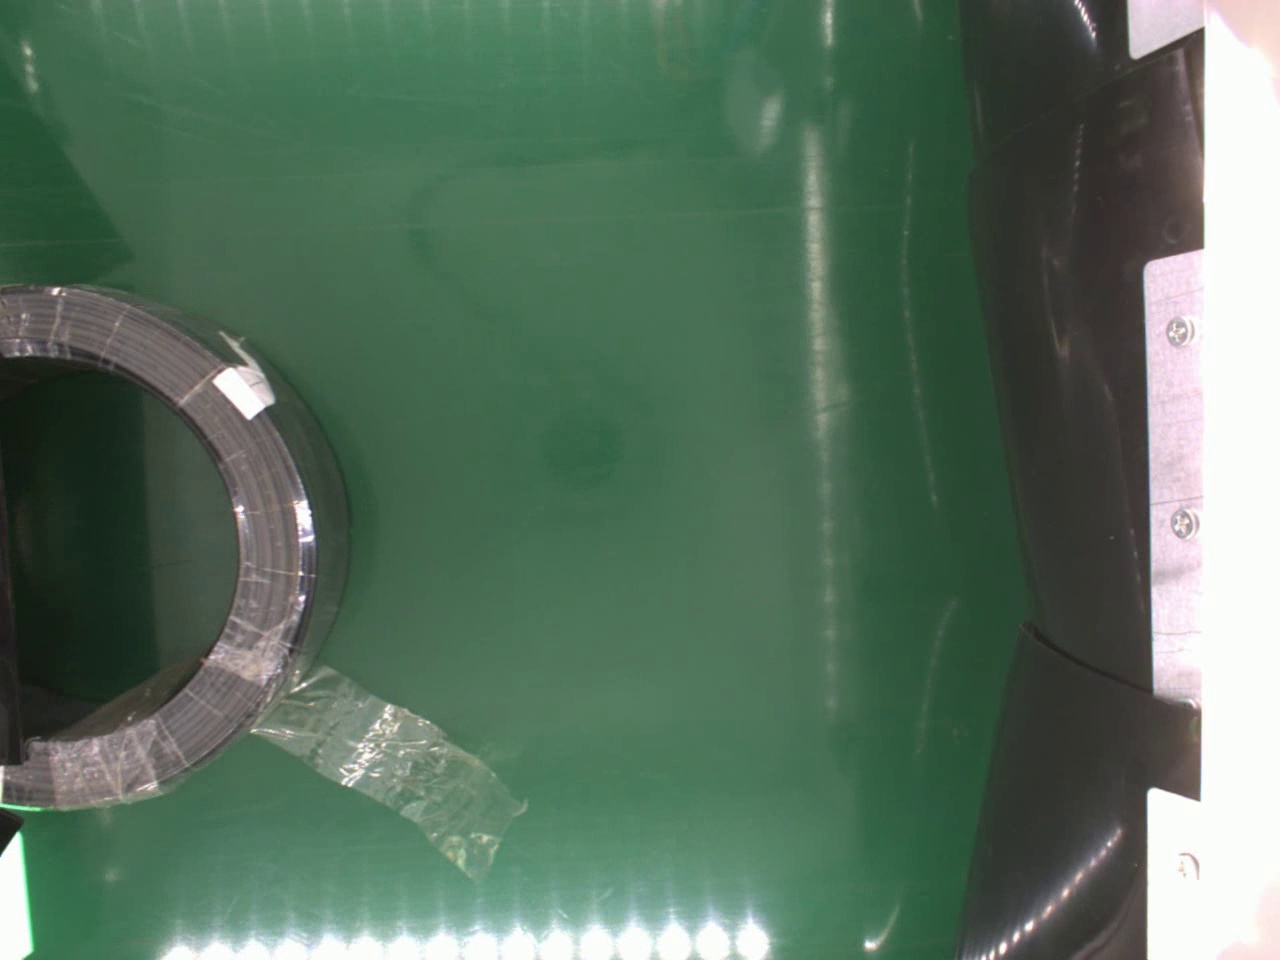black: (0, 272, 353, 810)
